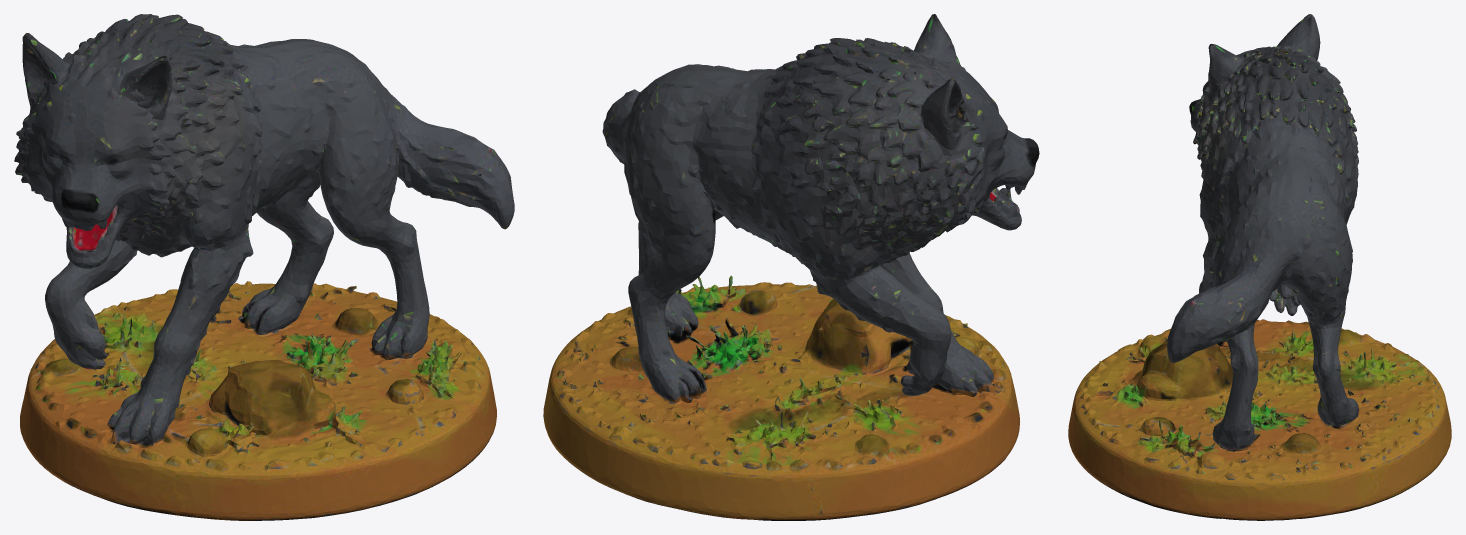
Rendered from lobo.glb.
3 renders of one model, left to right at view 1: azimuth 30°, elevation 25°; view 2: azimuth 150°, elevation 25°; view 3: azimuth 270°, elevation 25°, orthographic. The views are drawn at different scales.
Parts seen in each view (by area): view 1: tmpi9npmgii.ply; view 2: tmpi9npmgii.ply; view 3: tmpi9npmgii.ply.
Part boxes in pixels (bbox=[...]): tmpi9npmgii.ply: bbox=[14, 14, 514, 520]; tmpi9npmgii.ply: bbox=[543, 14, 1039, 520]; tmpi9npmgii.ply: bbox=[1068, 14, 1451, 520].
Size of the model in its own units: 1.96 by 1.82 by 1.83.
Materials: 1 (1 with a texture image).
